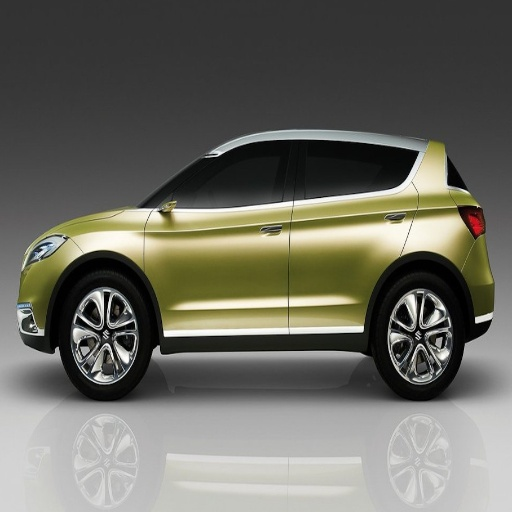back_left_door: (289, 139, 416, 332)
front_left_door: (147, 141, 296, 332)
